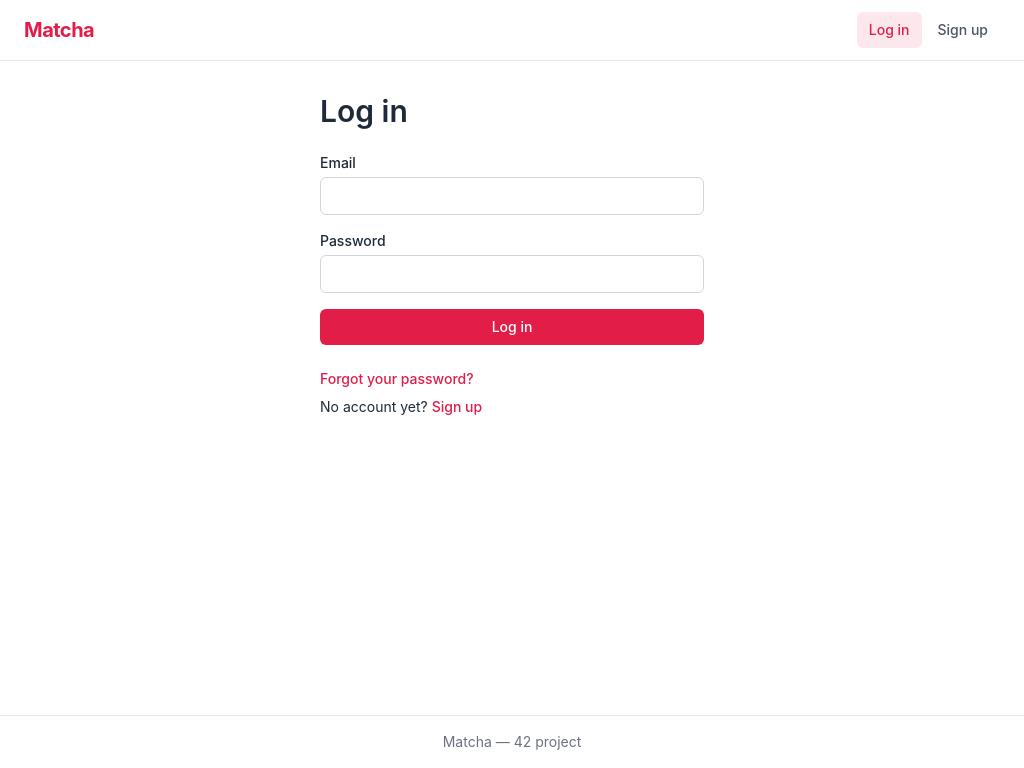
Test: login › valid credentials open a session and lead into the app
Type "alice@example.com" into the field labelled "Email".
click(512, 196); type("alice@example.com")  # box [320,177,704,215]
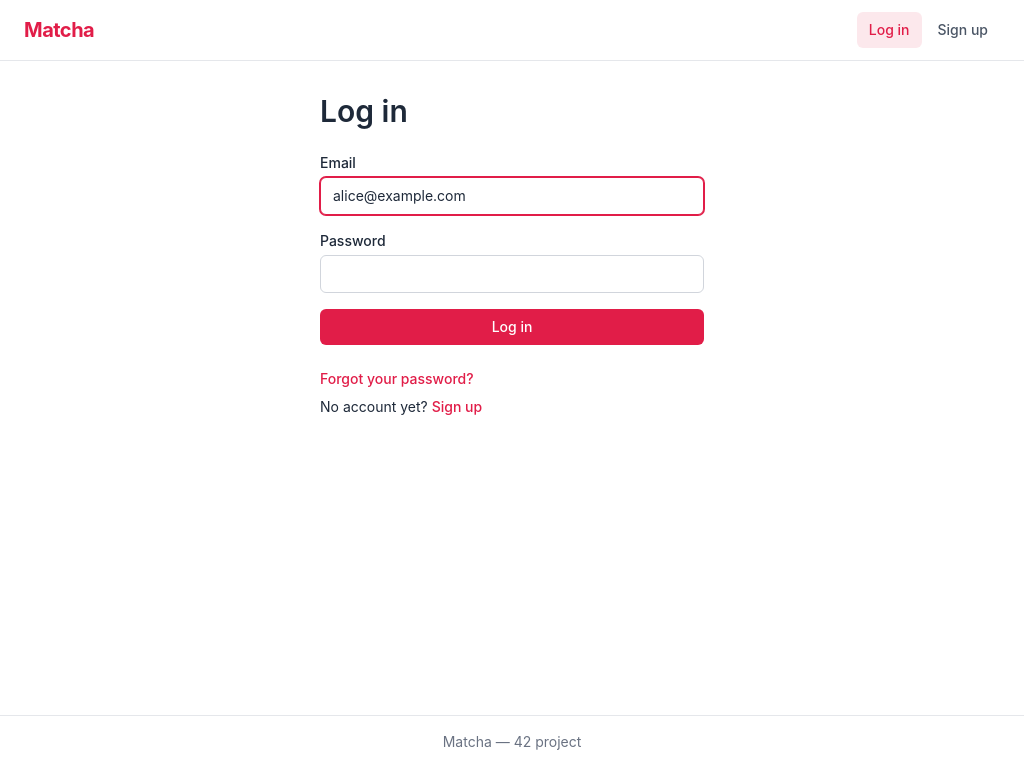
Type "Wonder1and" into the password field labelled "Password".
click(512, 274); type("Wonder1and")  # box [320,255,704,293]
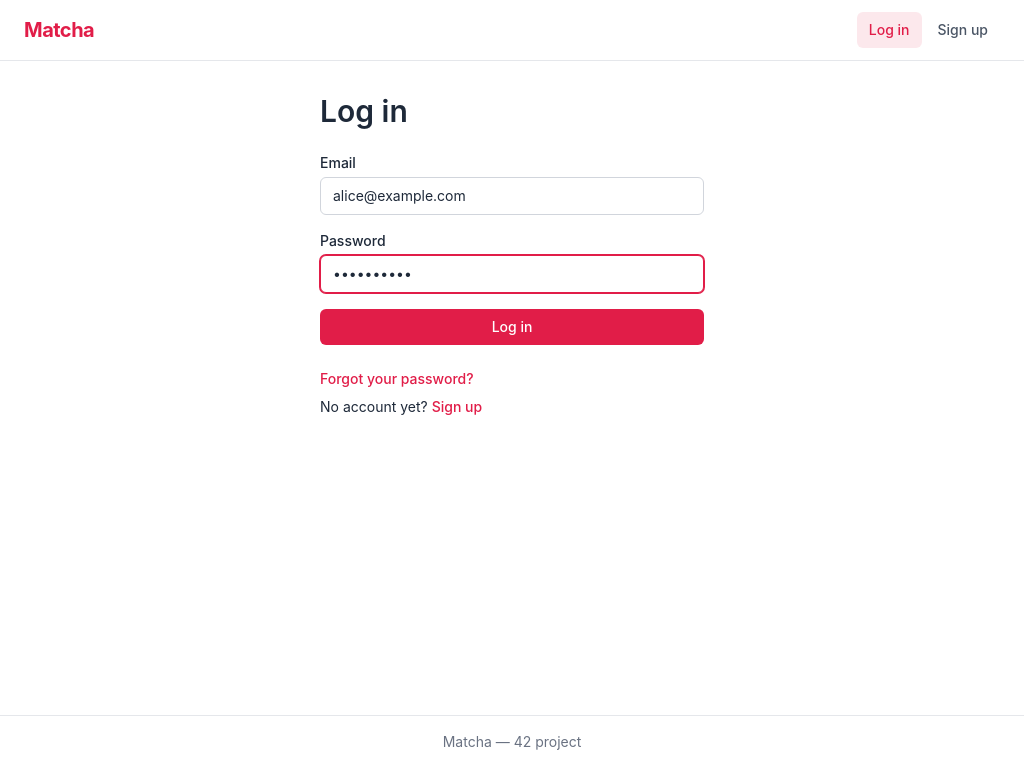
Click the button "Log in".
click(512, 327)  # box [320,309,704,345]
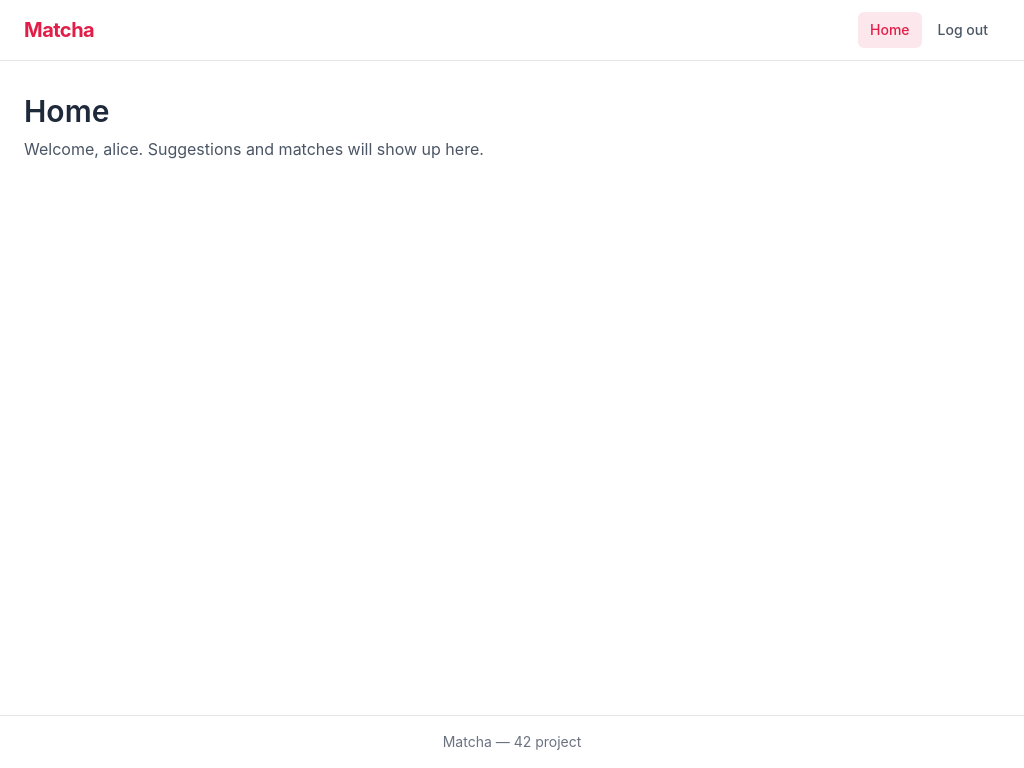
Check: the heading "Home" is shown, box [24,93,109,129]
Check: the text "Welcome, alice. Suggestions and matches will show up here." is shown, box [24,139,484,159]
Check: the button "Log out" is shown, box [926,12,1000,48]
